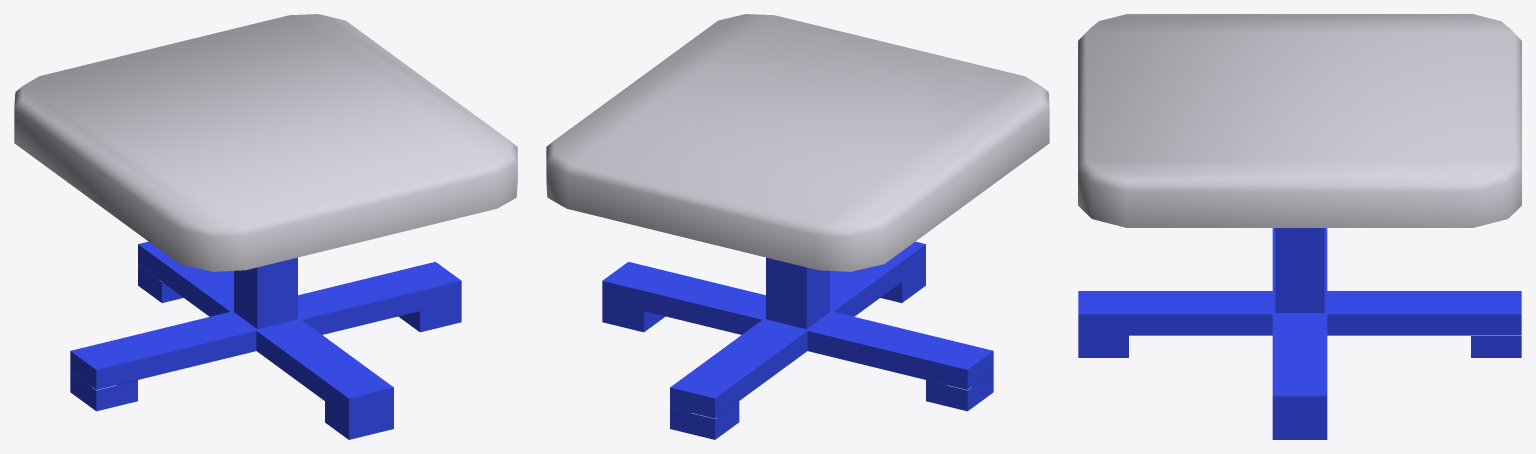
Rendered from ban 2.FBX.
3 views of the same model, side by side, from view 1: azimuth 30°, elevation 25°; view 2: azimuth 150°, elevation 25°; view 3: azimuth 270°, elevation 25° (orthographic). The views are drawn at different scales.
Visible parts, largest first — view 1: Box1142; view 2: Box1142; view 3: Box1142.
Part boxes in pixels (x1,y1,x2,y2): Box1142: [14, 14, 517, 439]; Box1142: [546, 14, 1049, 439]; Box1142: [1078, 14, 1521, 439].
Size of the model in its own units: 2.38 by 1.47 by 2.38.
